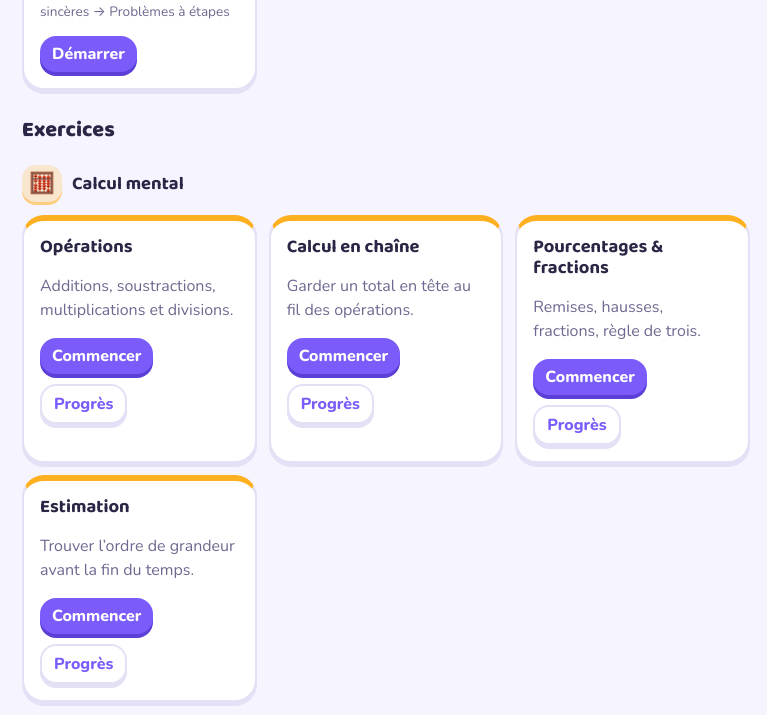
Test: every exercise › Opérations opens, runs for a while and can be quit
(page scrolled)
Click the 1st button "Commencer".
click(97, 356)  # box top-left (40, 338), bottom-right (154, 374)
(page scrolled)
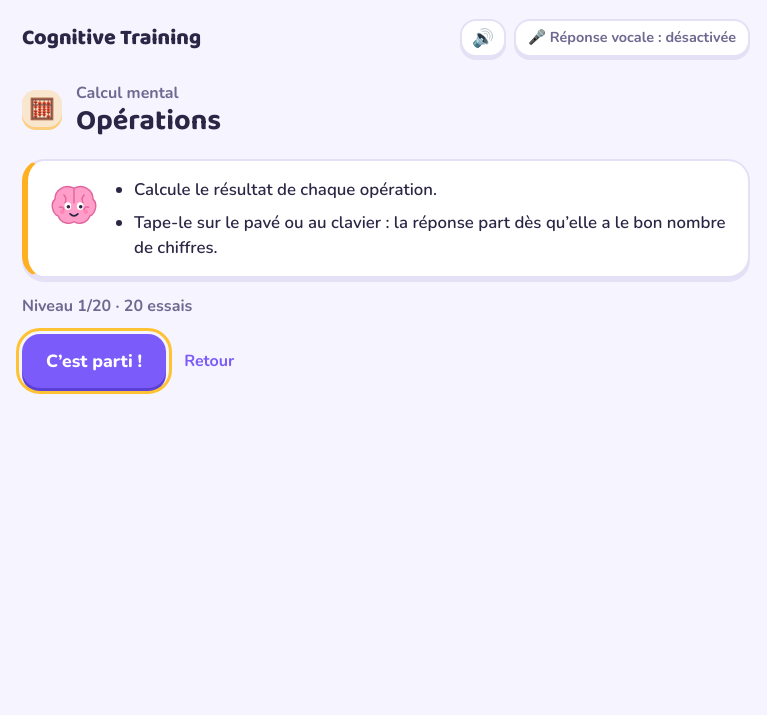
Click the button "C’est parti !".
click(94, 361)  # box top-left (22, 334), bottom-right (166, 388)
Wait 20000 ms
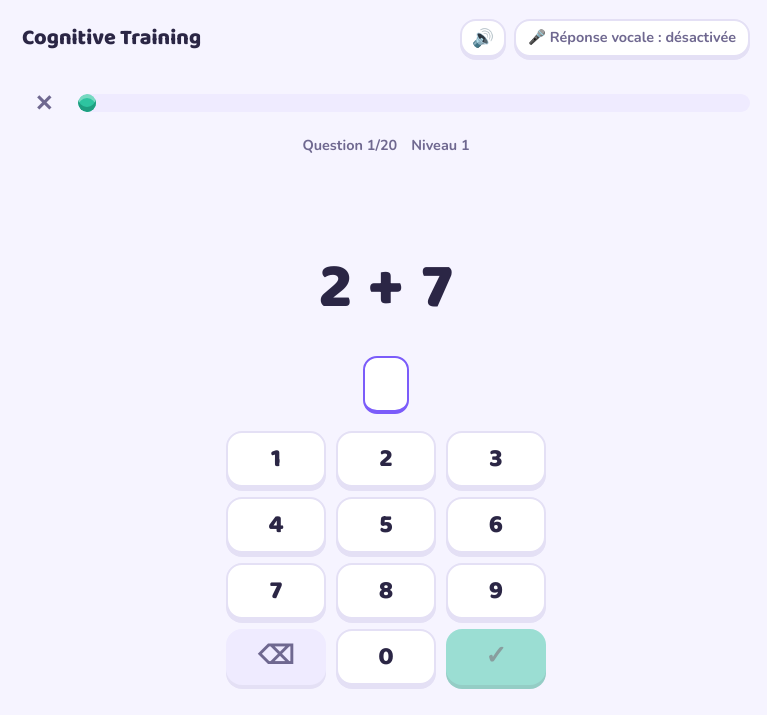
Result: the text "Niveau 1" is shown at top-left (411, 135), bottom-right (470, 157)
Result: the button named "Abandonner" is shown
Click the button named "Abandonner".
click(44, 103)  # box top-left (22, 81), bottom-right (66, 125)
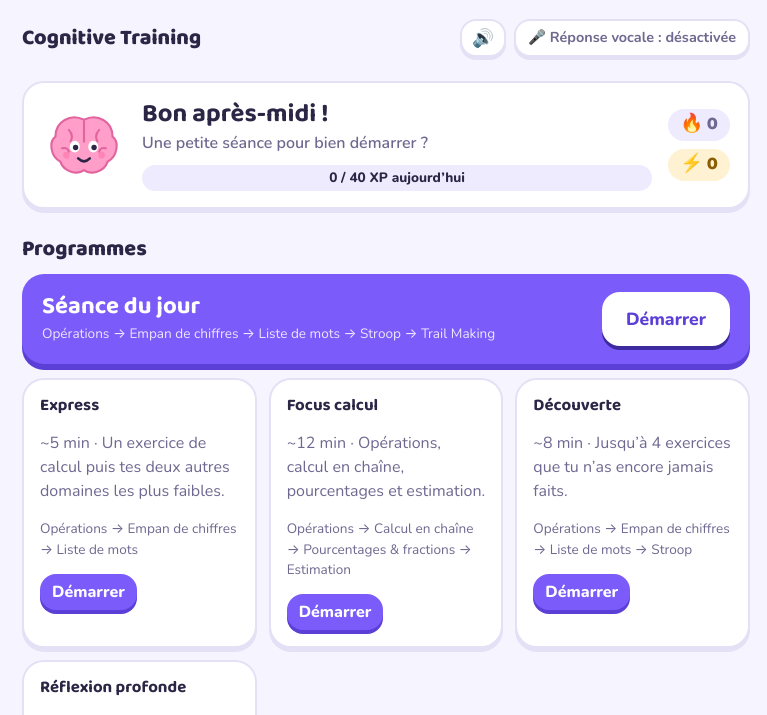
Result: the heading "Programmes" is shown at top-left (22, 232), bottom-right (147, 266)
